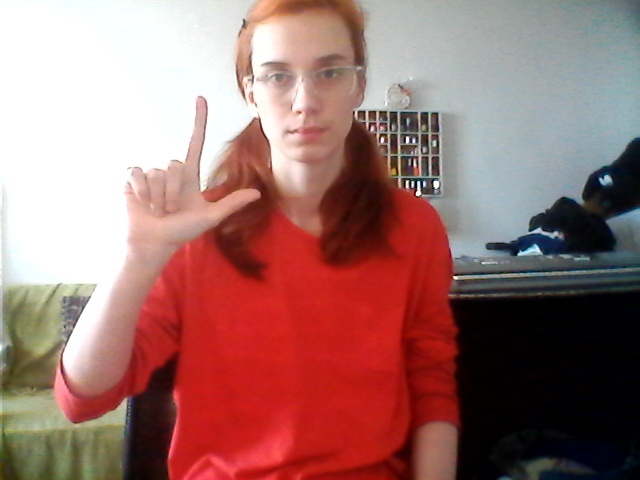l: (109, 90, 263, 241)
